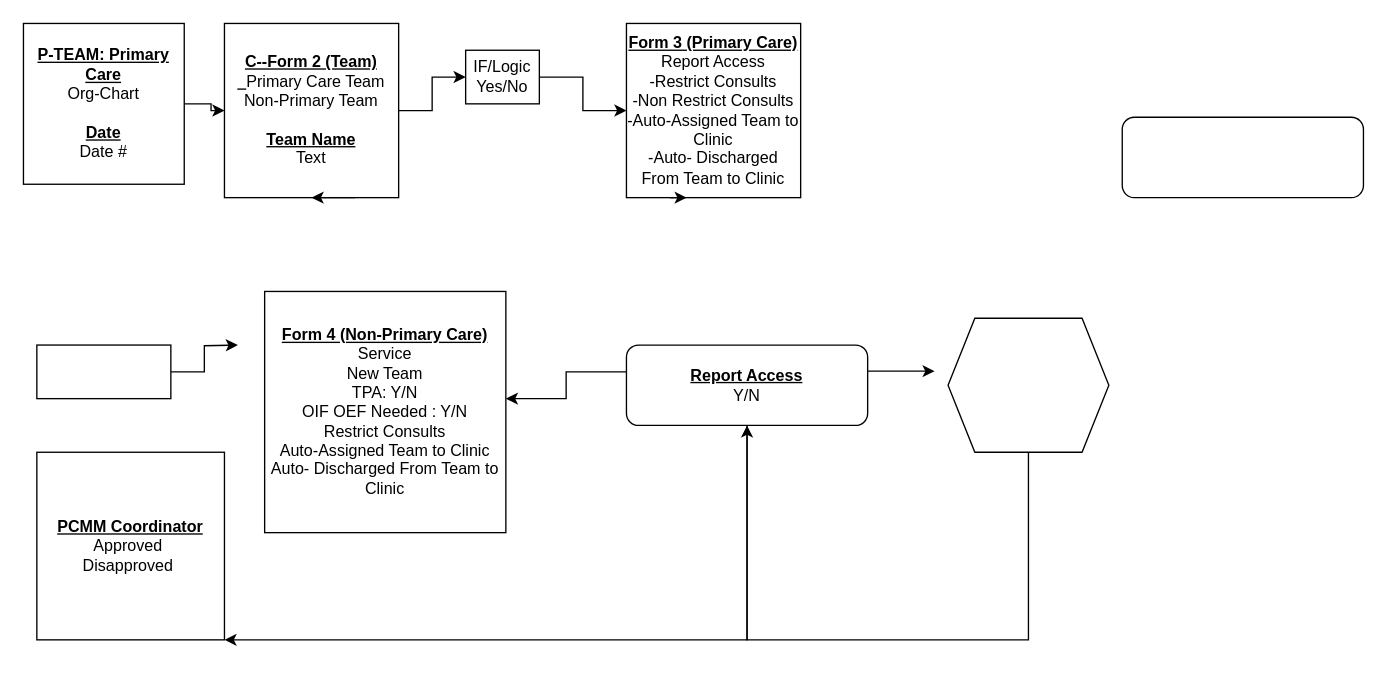
The diagram is 1387 pixels wide and 674 high, and some of its shapes have lost their labels. The shapes that lost their labels are listed below. From the top down, each one's centre as x and y in pixels, then its label:
At (1242,157): "Team Name".
At (103,371): "IF/Logic".
At (1028,384): "Supervisor Approved Disapproved".
